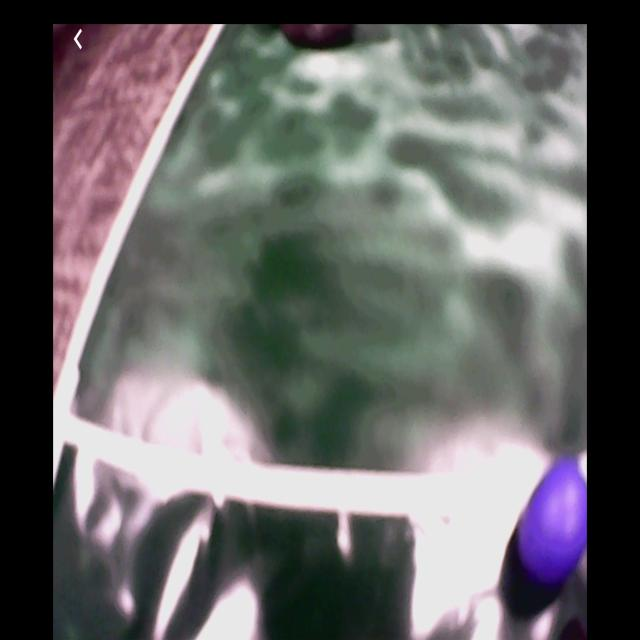ball: (520, 464, 589, 578)
